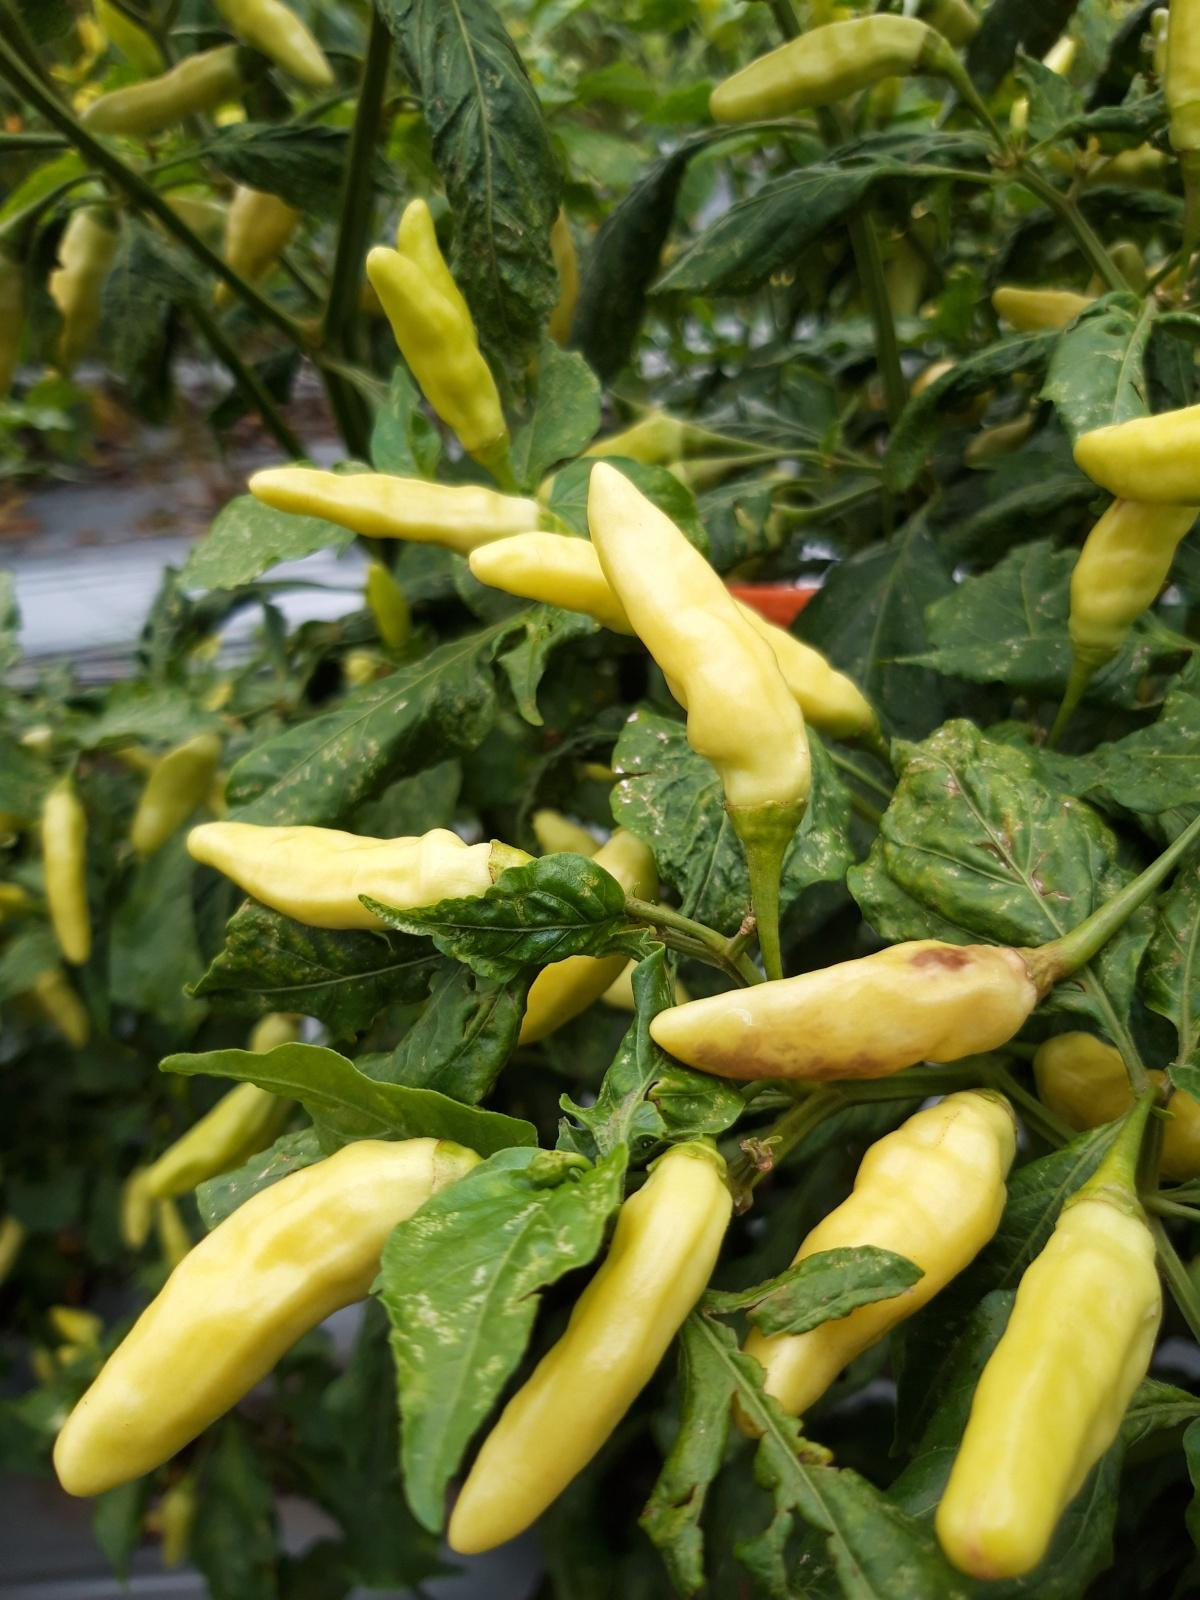cabai_normal: (50, 1135, 487, 1498), (444, 1146, 732, 1556), (731, 1082, 1016, 1448), (934, 1178, 1165, 1581), (586, 460, 813, 844), (187, 820, 529, 931), (245, 465, 576, 564), (364, 247, 511, 470), (706, 13, 945, 126), (82, 43, 260, 135), (134, 737, 231, 853), (38, 781, 95, 965)
lalat_buah: (643, 936, 1047, 1085)
